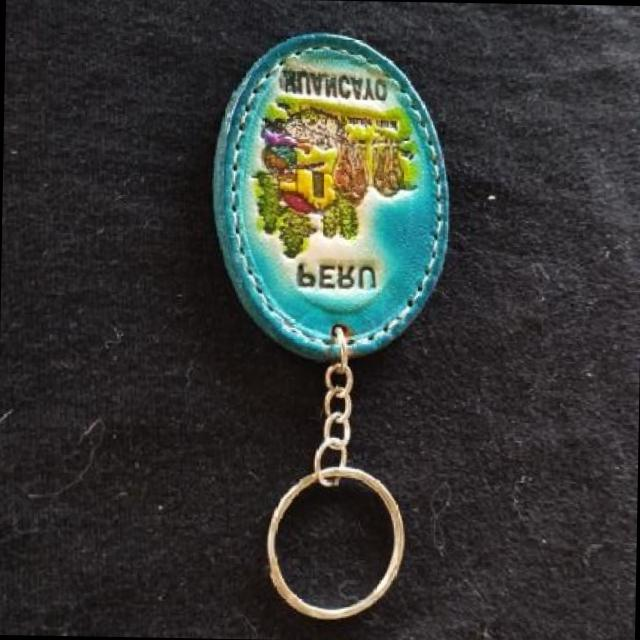Llavero: (207, 29, 452, 364)
